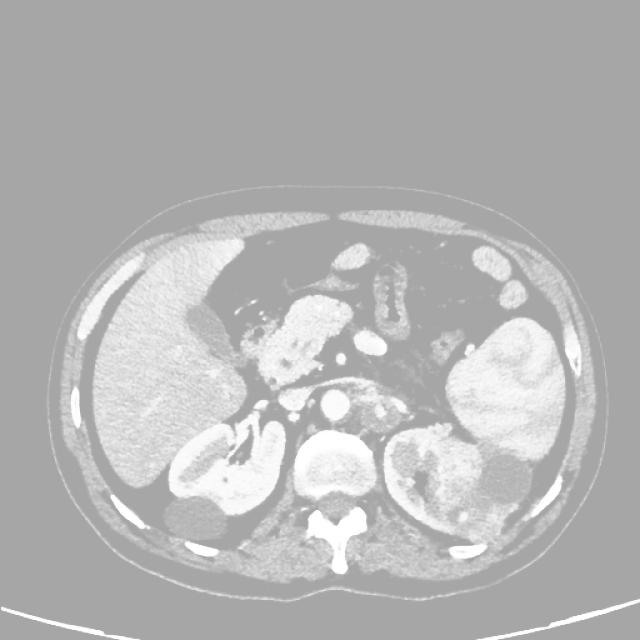TUMOR: (118, 243, 555, 523)
